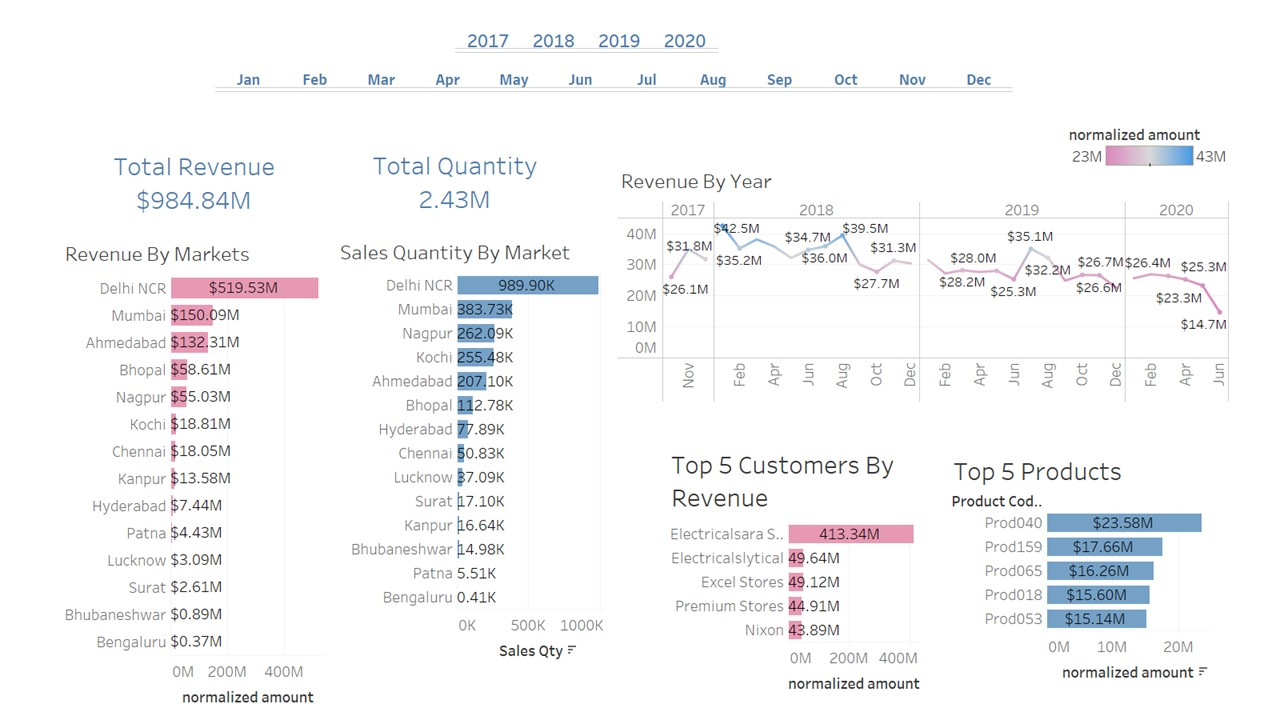

Layout of this report page (visuals, bound fields, positions):
{"tool":"tableau","page":{"name":"Dashboard 1","canvas":[1500,900],"ordinal":0},"visuals":[{"type":"worksheet","title":"Year","mark":"Automatic","cols":["cy_date"],"box":[519,25,346,51]},{"type":"worksheet","title":"Month","mark":"Automatic","cols":["cy_date"],"box":[219,74,1013,63]},{"type":"legend","title":"Revenue By Year","param":"[federated.1essxjm1x0ibzn14dm9py0ew5ywp].[sum:Calculation_823877325512929280:qk]","box":[1286,151,202,100]},{"type":"worksheet","title":"Quantity","mark":"Automatic","box":[409,171,224,113]},{"type":"worksheet","title":"Revenue","mark":"Automatic","box":[83,172,239,138]},{"type":"worksheet","title":"Revenue By Year","mark":"Automatic","rows":["Calculation_823877325512929280"],"cols":["cy_date","cy_date"],"box":[722,203,764,300]},{"type":"worksheet","title":"Sales Quantity By Market","mark":"Automatic","rows":["markets_name"],"cols":["sales_qty"],"box":[371,292,336,601]},{"type":"worksheet","title":"Revenue By Markets","mark":"Automatic","rows":["markets_name"],"cols":["Calculation_823877325512929280"],"box":[27,294,330,600]},{"type":"worksheet","title":"Top 5 Customers By Revenue","mark":"Automatic","rows":["custmer_name"],"cols":["Calculation_823877325512929280"],"box":[785,553,315,338]},{"type":"worksheet","title":"Top 5 Products","mark":"Automatic","rows":["product_code (products)"],"cols":["Calculation_823877325512929280"],"box":[1138,561,324,331]}]}

Visuals, with their boxes on the page's 1500x900 design canvas (x1, y1, x2, y2). These are canvas units, not pixel positions in the 1280x720 screenshot, which may show the page scaled, cropped or inside an application window:
"Year" worksheet: {"x1": 519, "y1": 25, "x2": 865, "y2": 76}
"Month" worksheet: {"x1": 219, "y1": 74, "x2": 1232, "y2": 137}
"Revenue By Year" legend: {"x1": 1286, "y1": 151, "x2": 1488, "y2": 251}
"Quantity" worksheet: {"x1": 409, "y1": 171, "x2": 633, "y2": 284}
"Revenue" worksheet: {"x1": 83, "y1": 172, "x2": 322, "y2": 310}
"Revenue By Year" worksheet: {"x1": 722, "y1": 203, "x2": 1486, "y2": 503}
"Sales Quantity By Market" worksheet: {"x1": 371, "y1": 292, "x2": 707, "y2": 893}
"Revenue By Markets" worksheet: {"x1": 27, "y1": 294, "x2": 357, "y2": 894}
"Top 5 Customers By Revenue" worksheet: {"x1": 785, "y1": 553, "x2": 1100, "y2": 891}
"Top 5 Products" worksheet: {"x1": 1138, "y1": 561, "x2": 1462, "y2": 892}
